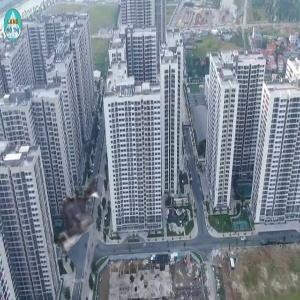drone: (27, 166, 130, 269)
